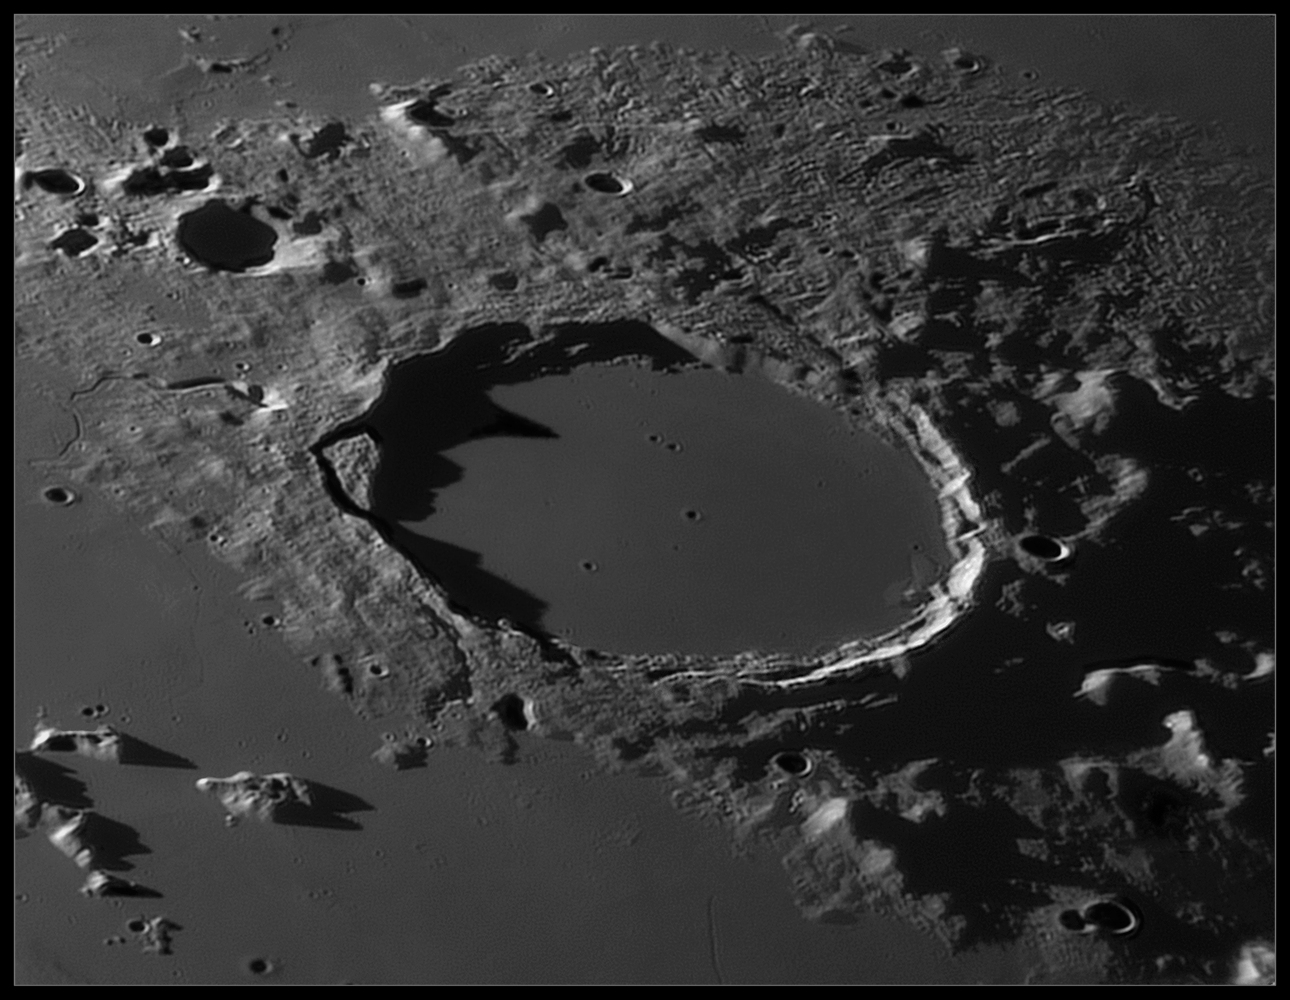crater: (292, 265, 1018, 802), (18, 455, 131, 587), (213, 907, 348, 977), (564, 149, 663, 224)
